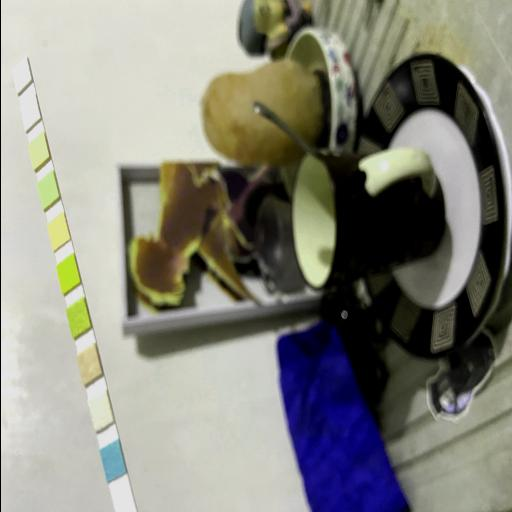Bilirubin: (92, 398, 108, 420)
Blood: (60, 262, 76, 286)
Glucose: (104, 448, 120, 472)
Ketone: (82, 352, 96, 379)
Leukocytes: (14, 66, 28, 84)
Nitrite: (22, 102, 36, 124)
Protein: (40, 178, 55, 202)
SpGravity: (70, 304, 86, 330)
Urobilinogen: (32, 140, 46, 161)
pH: (50, 220, 66, 244)
strip: (11, 57, 138, 512)
